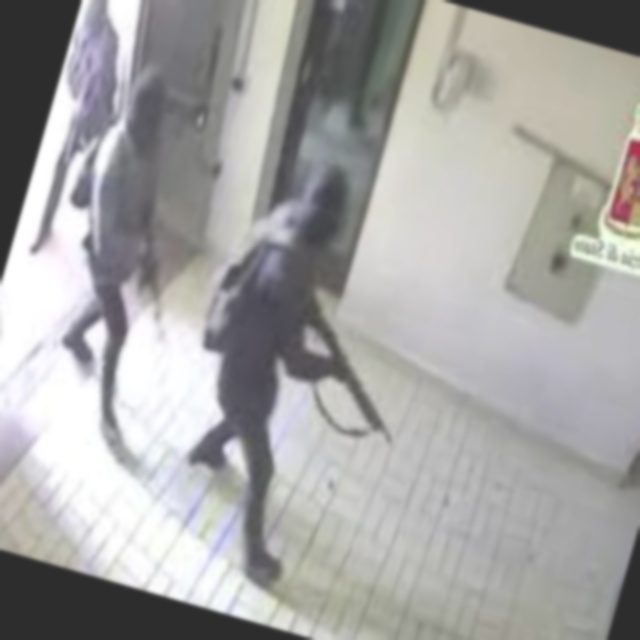gun: (268, 283, 434, 458), (113, 222, 201, 346)
